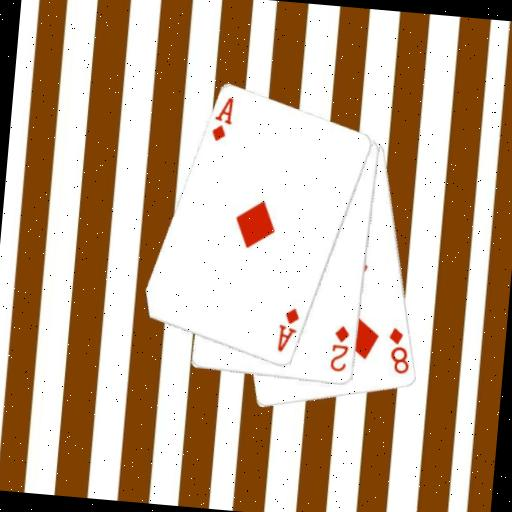2D: (327, 323, 353, 375)
8D: (383, 324, 414, 377)
AD: (274, 304, 302, 356), (208, 93, 236, 144)
